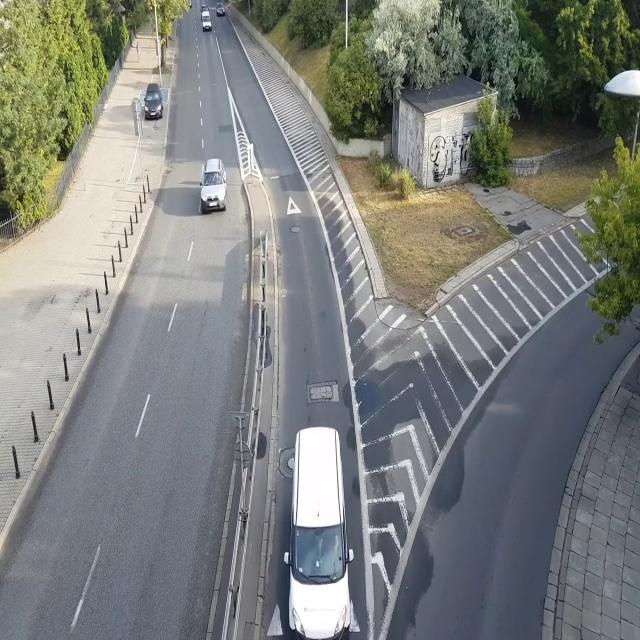car: (199, 157, 228, 214), (143, 82, 164, 120), (217, 2, 226, 17), (200, 2, 210, 13), (183, 0, 193, 9)
van: (282, 426, 354, 640), (202, 12, 212, 32)
